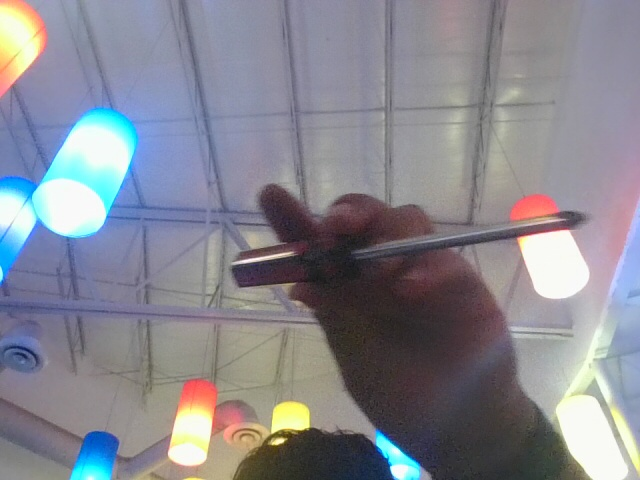destornillador: (226, 193, 595, 306)
